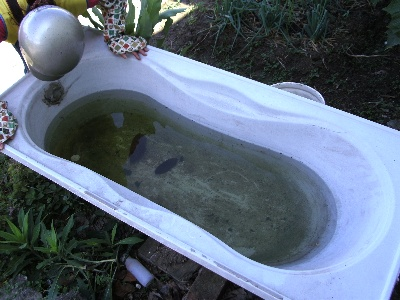tub: (1, 25, 400, 297)
